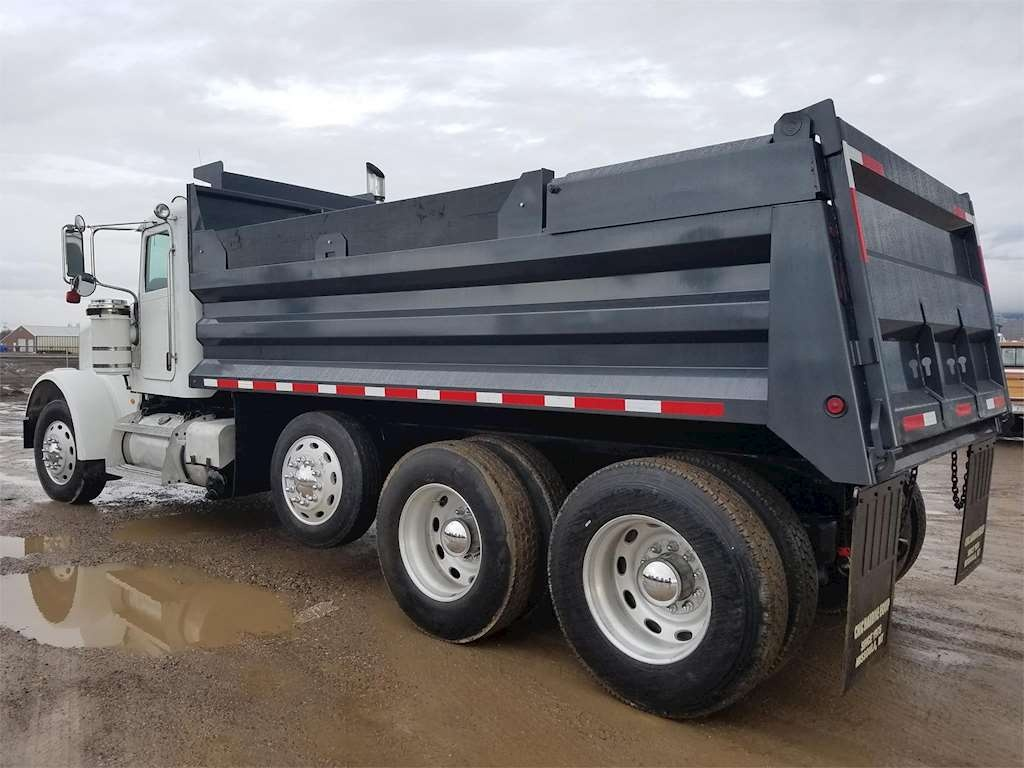bus: (14, 138, 997, 682)
